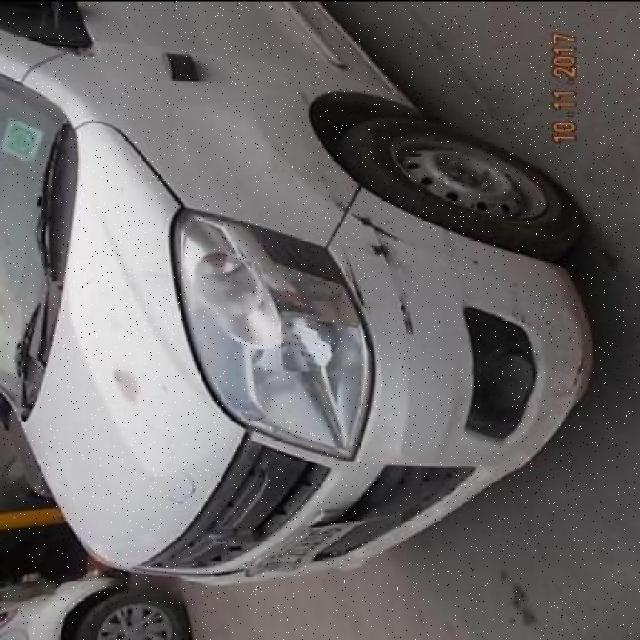damage: (332, 199, 406, 266), (341, 243, 368, 310), (395, 287, 418, 335)
